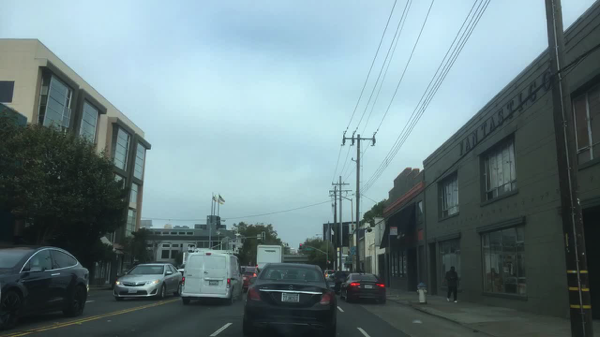car: (1, 243, 90, 329), (243, 263, 338, 337), (177, 248, 240, 305), (114, 263, 185, 303), (341, 272, 388, 305), (331, 271, 356, 293), (239, 273, 257, 293), (240, 264, 259, 274), (326, 280, 336, 297), (323, 268, 338, 279), (177, 267, 185, 277)
person: (445, 265, 460, 304), (254, 264, 261, 275)
traffic sign: (349, 246, 358, 255), (389, 228, 398, 236), (348, 223, 355, 233), (345, 255, 352, 264), (342, 247, 349, 254), (304, 248, 314, 251), (257, 234, 261, 241)
truck: (256, 245, 284, 269)
